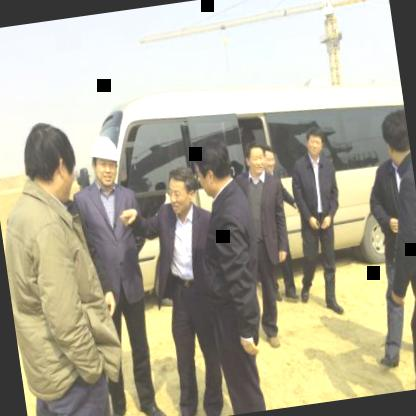head: (16, 116, 81, 210), (187, 130, 236, 196), (374, 106, 412, 168), (163, 166, 197, 215), (300, 121, 328, 158), (243, 136, 267, 177), (260, 143, 278, 177)
helmet: (85, 121, 124, 191)
